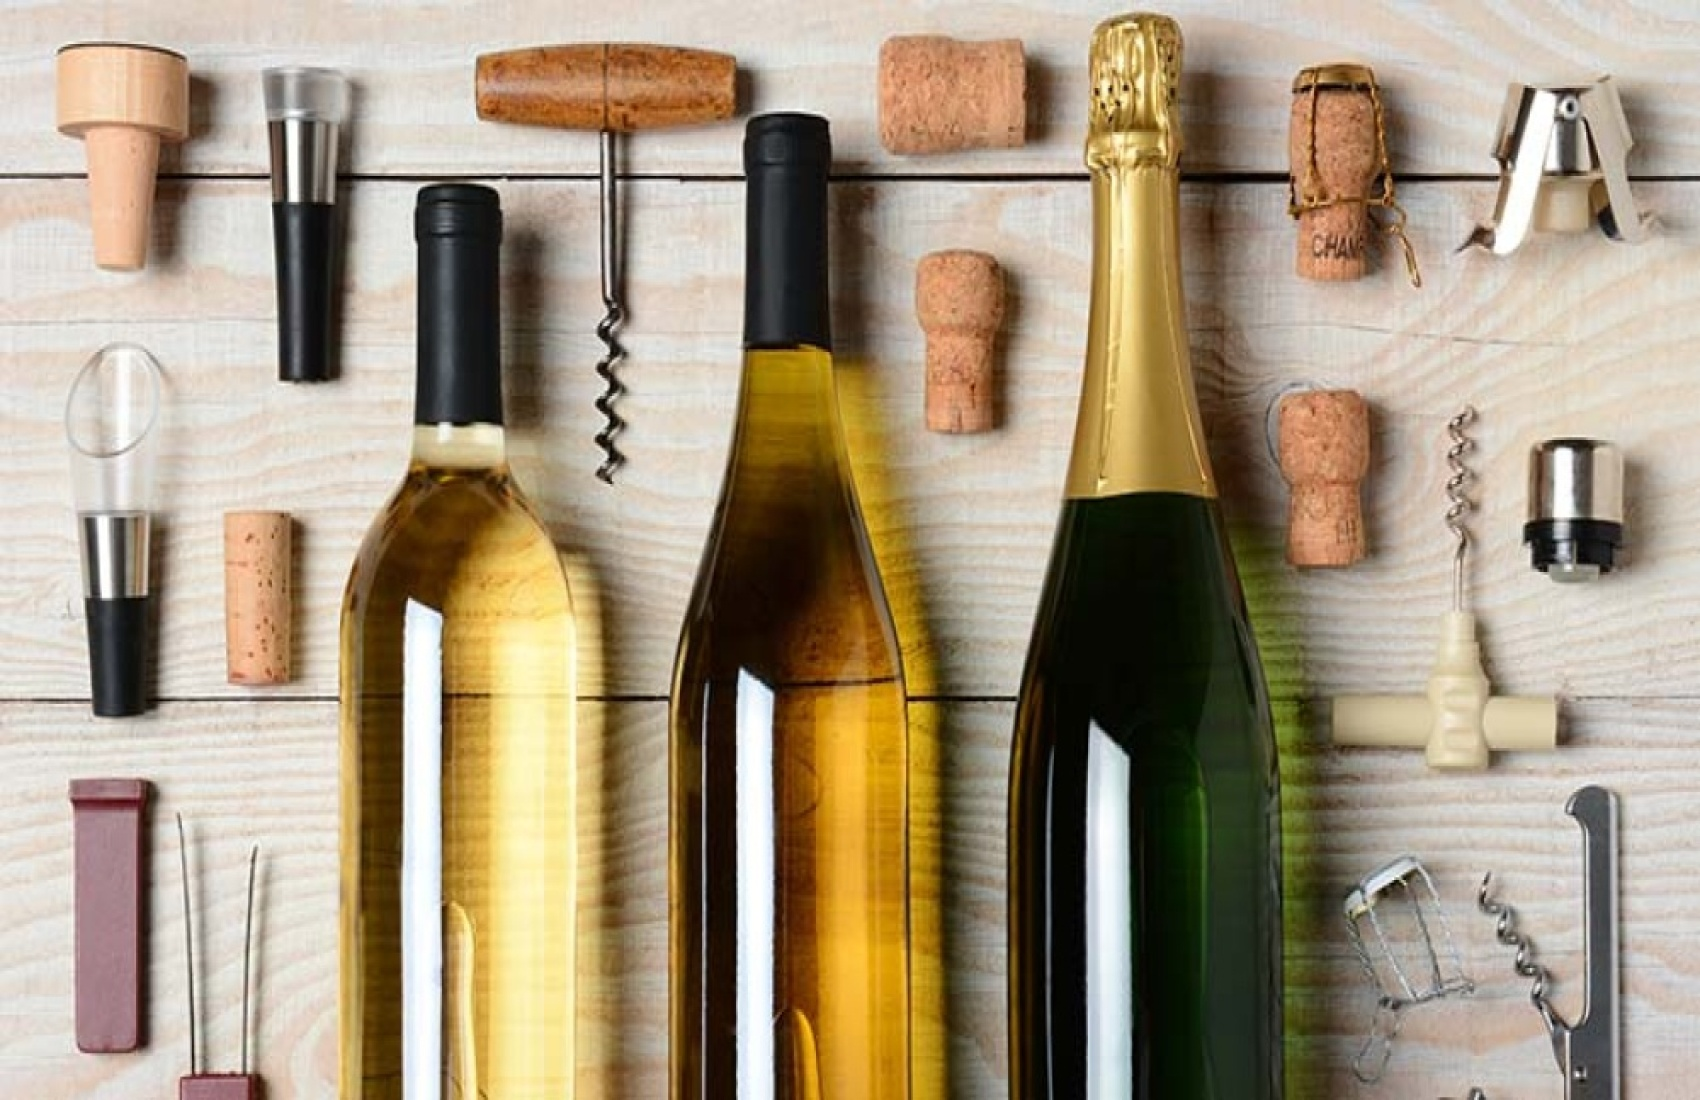wine: (1009, 46, 1292, 1100), (667, 109, 945, 1100), (322, 109, 600, 1100)
